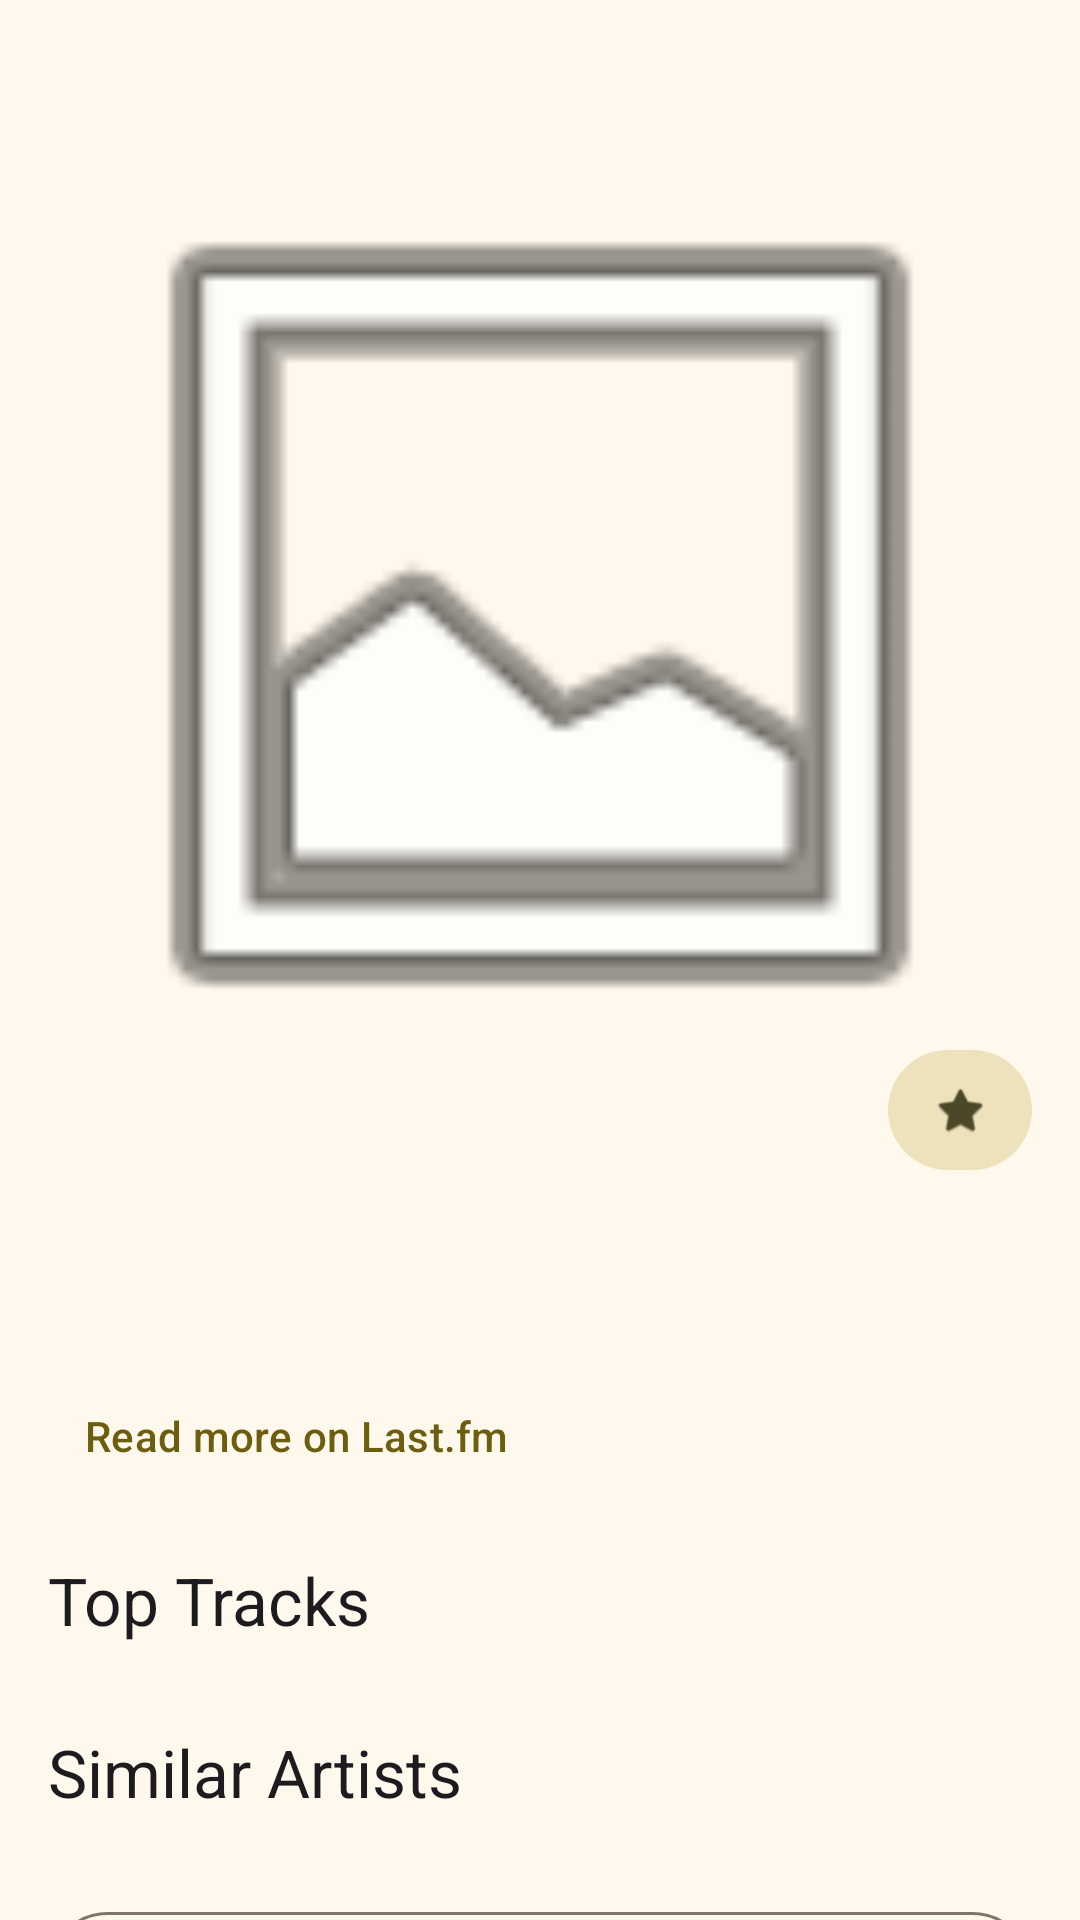

Icon bounding boxes for this 1080*1920 phone screenshot, format (left=x1, top=y1, right=x2, bottom=y2):
star off: (left=888, top=1050, right=1032, bottom=1170)
